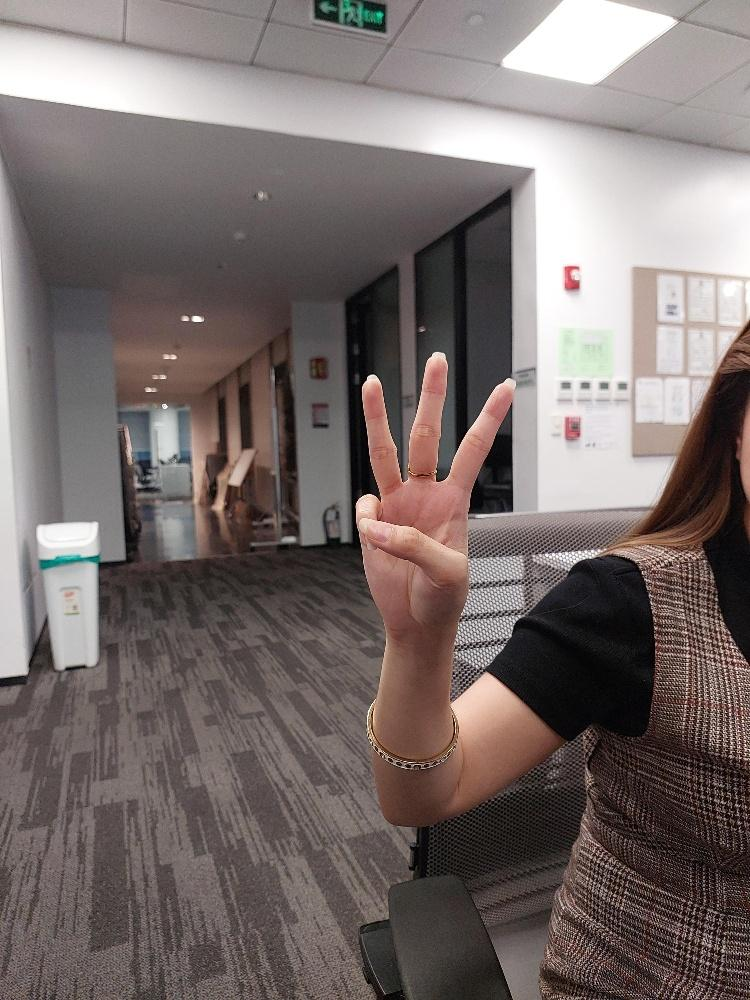w: (351, 346, 519, 640)
